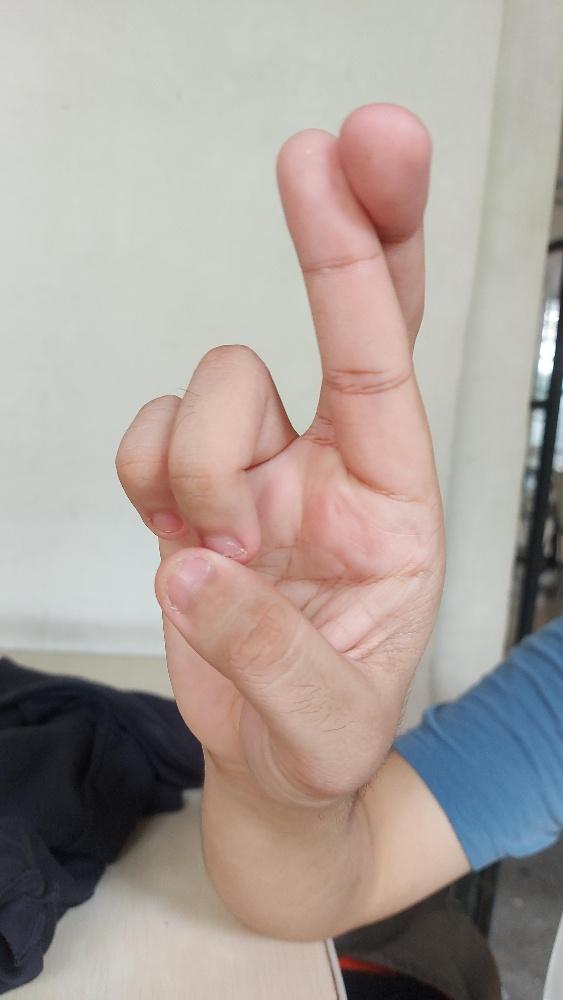r: (112, 100, 447, 810)
